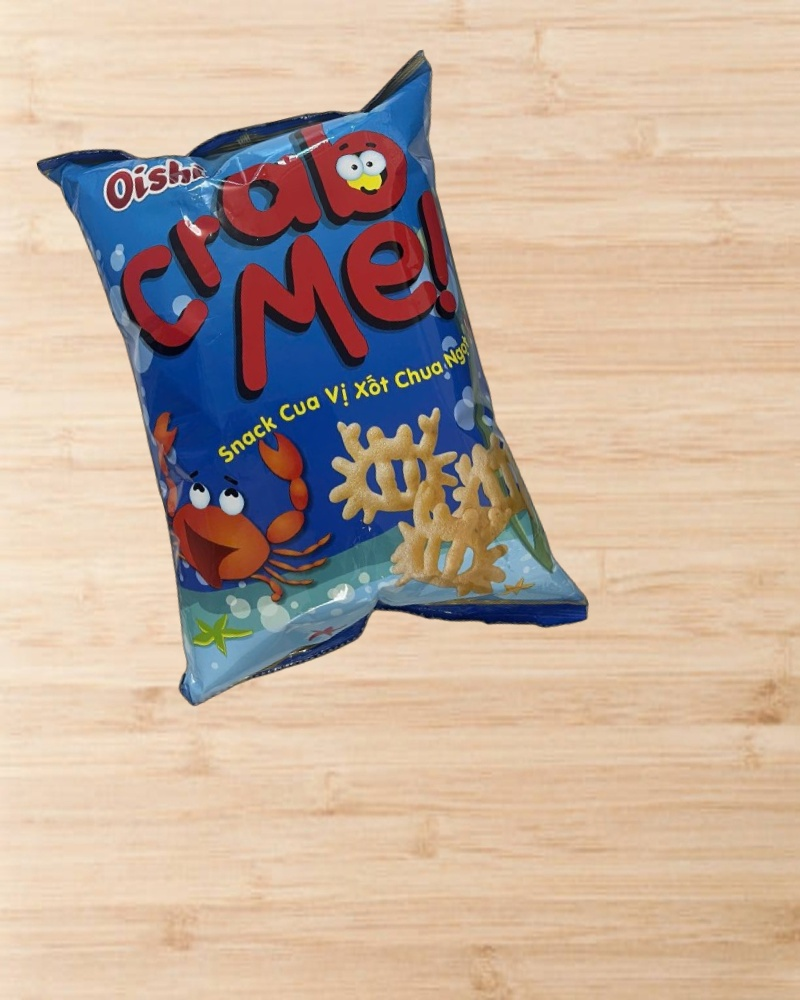Snack cua: (35, 46, 591, 720)
